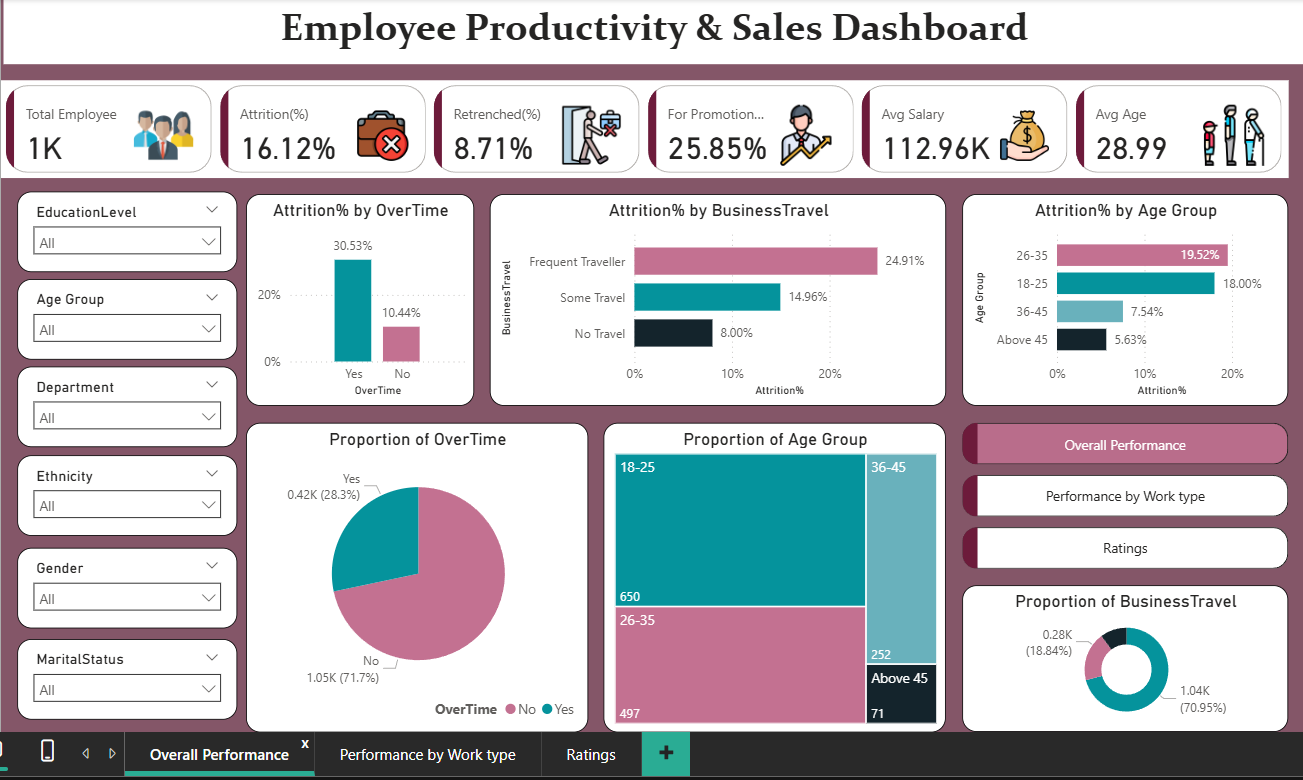

The page's visual inventory and layout, read from the dashboard file:
{"tool":"powerbi","page":{"name":"Overall Performance","canvas":[1280,720],"ordinal":0},"visuals":[{"type":"textbox","box":[2,0,1278,64],"z":0},{"type":"barChart","fields":{"Category":["Employee.Age Group"],"Y":["All Measures.Attrition%"]},"box":[944,192,320,208],"z":1000},{"type":"columnChart","fields":{"Category":["Employee.OverTime"],"Y":["All Measures.Attrition%"]},"box":[240,192,224,208],"z":2000},{"type":"barChart","fields":{"Category":["Employee.BusinessTravel"],"Y":["All Measures.Attrition%"]},"box":[480,192,448,208],"z":3000},{"type":"treemap","title":"Proportion of Age Group","fields":{"Group":["Employee.Age Group"],"Values":["CountNonNull(Employee.Age Group)"]},"box":[592,416,336,304],"z":4000},{"type":"pieChart","title":"Proportion of OverTime","fields":{"Category":["Employee.OverTime"],"Y":["CountNonNull(Employee.OverTime)"]},"box":[240,416,336,304],"z":5000},{"type":"donutChart","title":"Proportion of BusinessTravel","fields":{"Category":["Employee.BusinessTravel"],"Y":["CountNonNull(Employee.BusinessTravel)"]},"box":[944,576,320,144],"z":6000},{"type":"slicer","fields":{"Values":["EducationLevel.EducationLevel"]},"box":[15.6,189,216.2,79.5],"z":7000},{"type":"slicer","fields":{"Values":["Employee.Age Group"]},"box":[15.6,274.8,216.2,79.5],"z":8000},{"type":"slicer","fields":{"Values":["Employee.Department"]},"box":[15.6,360.6,216.2,79.5],"z":9000},{"type":"slicer","fields":{"Values":["Employee.Ethnicity"]},"box":[15.6,448,216.2,79.5],"z":10000},{"type":"slicer","fields":{"Values":["Employee.Gender"]},"box":[15.6,538.6,216.2,79.5],"z":11000},{"type":"slicer","fields":{"Values":["Employee.MaritalStatus"]},"box":[15.6,627.6,216.2,79.5],"z":12000},{"type":"cardVisual","fields":{"Data":["All Measures.Total_Employee","All Measures.Attrition%","All Measures.Retrenched%","All Measures.Due for Promotion %","All Measures.Avg_Salary","All Measures.Avg_Age"]},"box":[0,80,1264,96],"z":13000},{"type":"pageNavigator","box":[944,416,320,144],"z":14000},{"type":"actionButton","box":[944,464,320,48],"z":15000},{"type":"actionButton","box":[944,512,320,48],"z":16000},{"type":"actionButton","box":[944,416,320,48],"z":17000}]}

Visuals, with their boxes in screenshot pixels (x1, y1, x2, y2):
textbox: bbox=(12, 0, 1295, 64)
barChart - Employee.Age Group x All Measures.Attrition%: bbox=(958, 193, 1279, 402)
columnChart - Employee.OverTime x All Measures.Attrition%: bbox=(251, 193, 476, 402)
barChart - Employee.BusinessTravel x All Measures.Attrition%: bbox=(492, 193, 942, 402)
"Proportion of Age Group" treemap: bbox=(604, 418, 942, 723)
"Proportion of OverTime" pieChart: bbox=(251, 418, 588, 723)
"Proportion of BusinessTravel" donutChart: bbox=(958, 578, 1279, 723)
slicer - EducationLevel.EducationLevel: bbox=(26, 190, 243, 270)
slicer - Employee.Age Group: bbox=(26, 276, 243, 356)
slicer - Employee.Department: bbox=(26, 362, 243, 442)
slicer - Employee.Ethnicity: bbox=(26, 450, 243, 530)
slicer - Employee.Gender: bbox=(26, 541, 243, 621)
slicer - Employee.MaritalStatus: bbox=(26, 630, 243, 710)
cardVisual - All Measures.Total_Employee x All Measures.Attrition%: bbox=(10, 80, 1279, 177)
pageNavigator: bbox=(958, 418, 1279, 562)
actionButton: bbox=(958, 466, 1279, 514)
actionButton: bbox=(958, 514, 1279, 562)
actionButton: bbox=(958, 418, 1279, 466)
